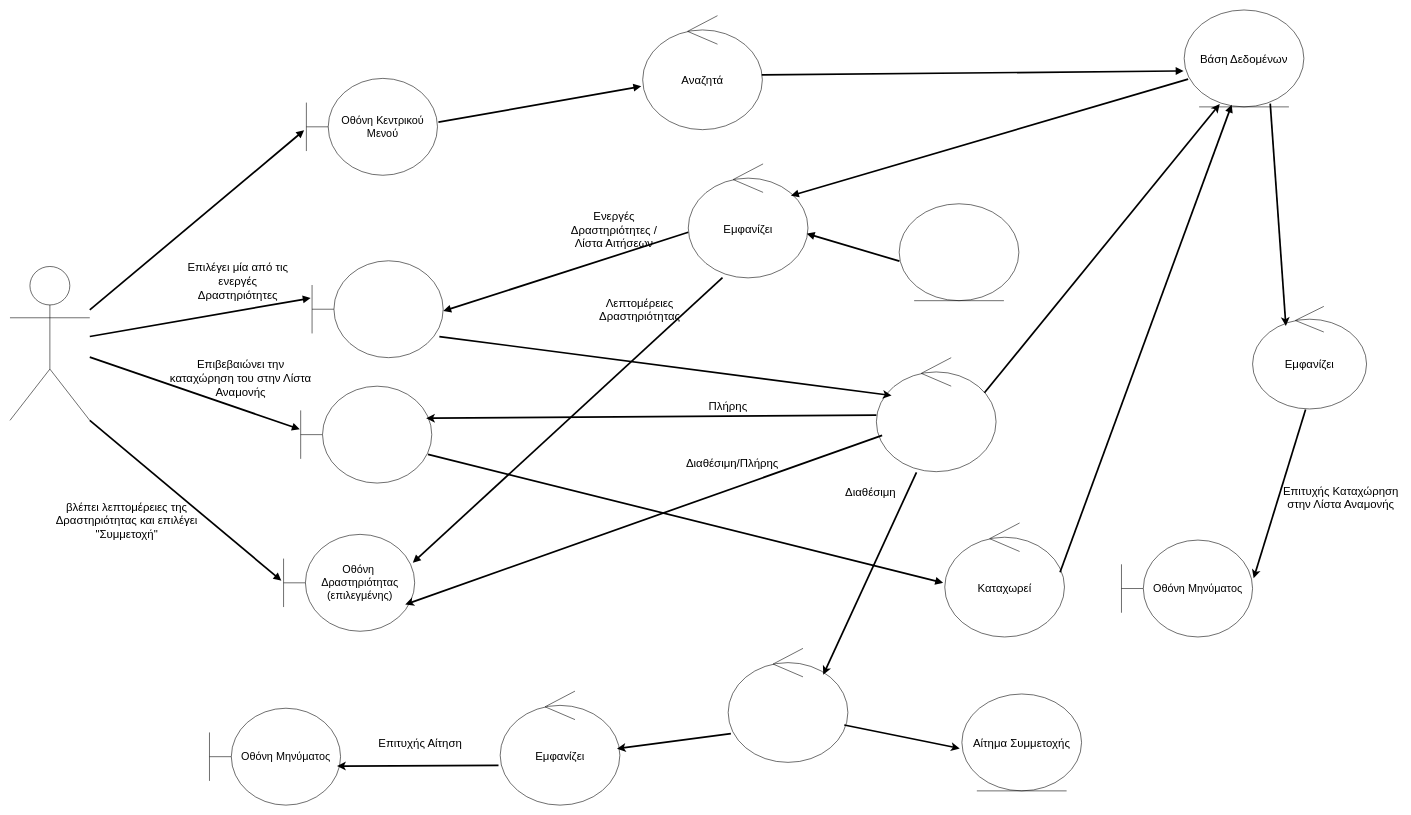
This 1411x815 diagram has some shape labels left out. The shapes that lost their labels are listed below. From the top down, each one's centre as x and y in pixels, then its label:
the point at 959,252: Λίστα Αιτήσεων
the point at 377,309: Οθόνη Ενεργών Δραστηριοτήτων
the point at 49,343: Φοιτητής
the point at 366,434: Οθόνη Λίστας Αναμονής
the point at 936,414: Έλεγχος Διαθεσιμότητας Θέσεων
the point at 788,705: Δημιουργία Αιτήματος
